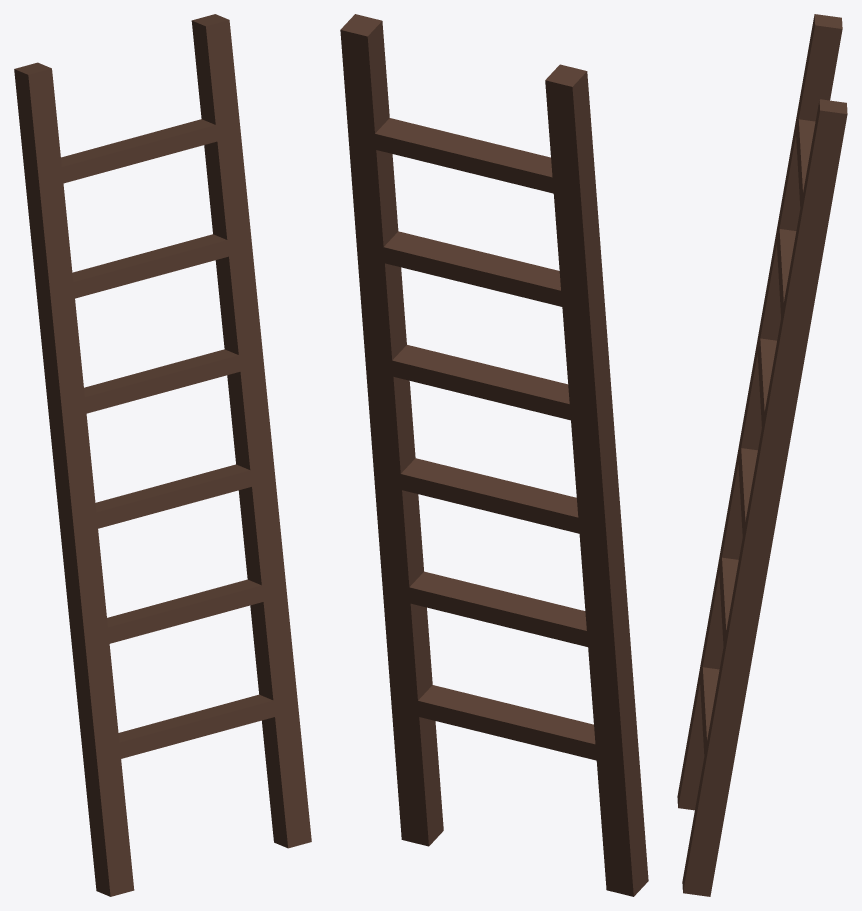
Rendered from escaleras.fbx.
3 views of the same model, side by side, from view 1: azimuth 30°, elevation 25°; view 2: azimuth 150°, elevation 25°; view 3: azimuth 270°, elevation 25° (orthographic). The views are drawn at different scales.
Parts seen in each view (by area): view 1: Cube.001; view 2: Cube.001; view 3: Cube.001.
Boxes of the visible parts, <box> form: Cube.001: <box>14,14,311,896</box>; Cube.001: <box>340,14,648,896</box>; Cube.001: <box>677,14,847,896</box>.
Size of the model in its own units: 182 by 623 by 123.
